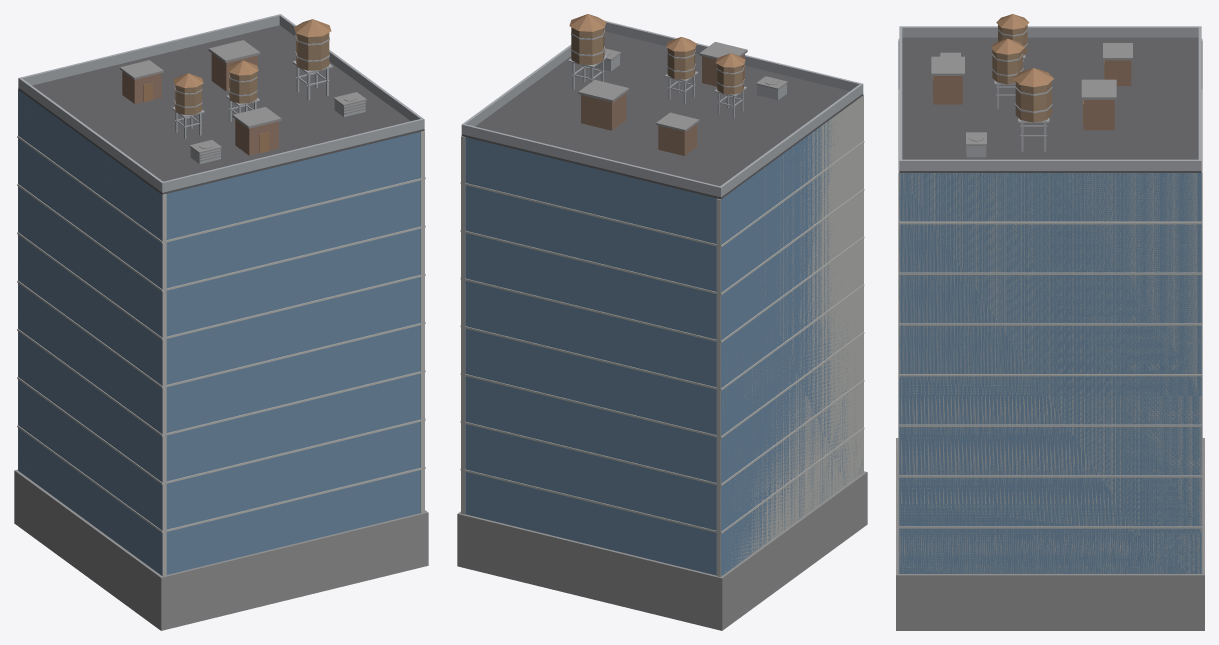
Rendered from bld_glass_04.glb.
3 views of the same model, side by side, from view 1: azimuth 30°, elevation 25°; view 2: azimuth 150°, elevation 25°; view 3: azimuth 270°, elevation 25° (orthographic). The views are drawn at different scales.
Visible parts, largest first — view 1: bld_glass_04; view 2: bld_glass_04; view 3: bld_glass_04.
Boxes of the visible parts, <box> form: bld_glass_04: <box>14,14,428,630</box>; bld_glass_04: <box>457,14,867,630</box>; bld_glass_04: <box>896,14,1204,630</box>.
Bounding box in the file's own units: 20.4 × 37.21 × 19.4.
